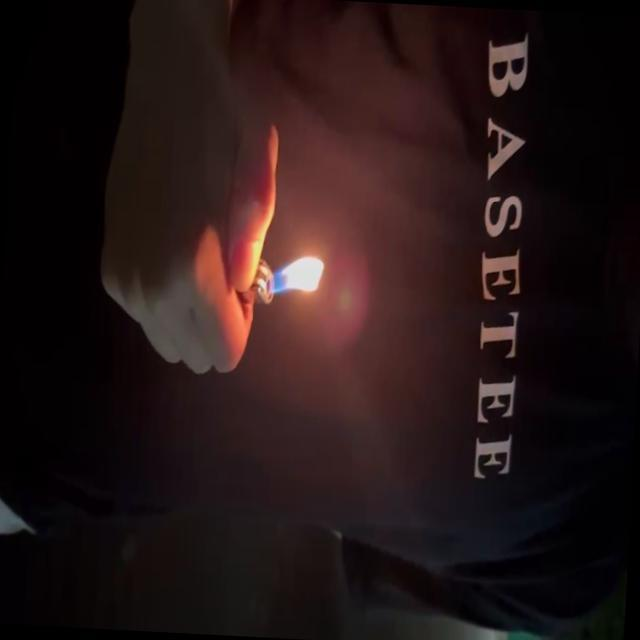Fire: (263, 251, 328, 314)
